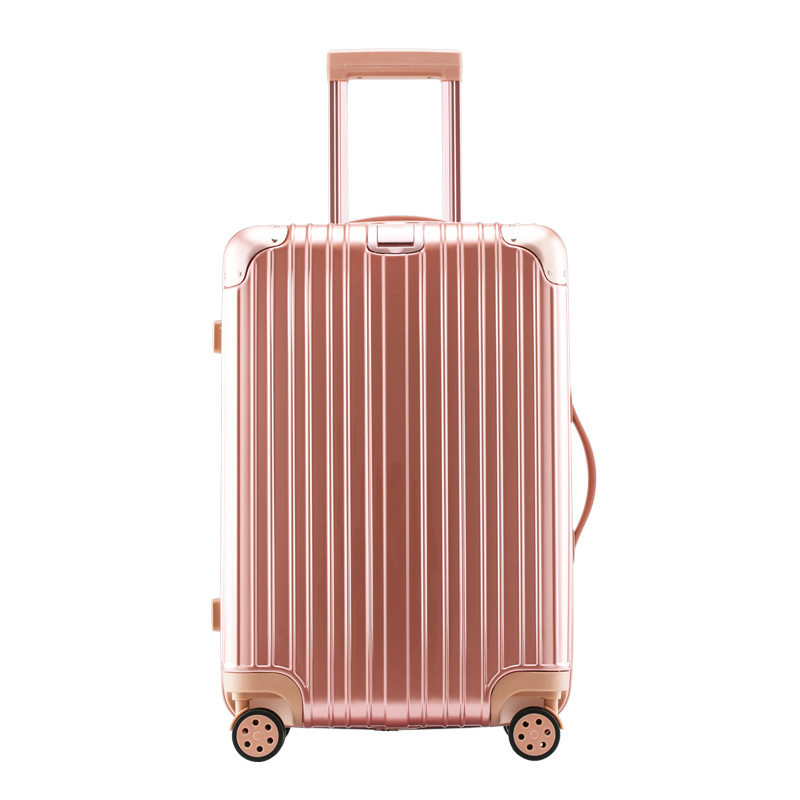luggage: (211, 50, 599, 763)
